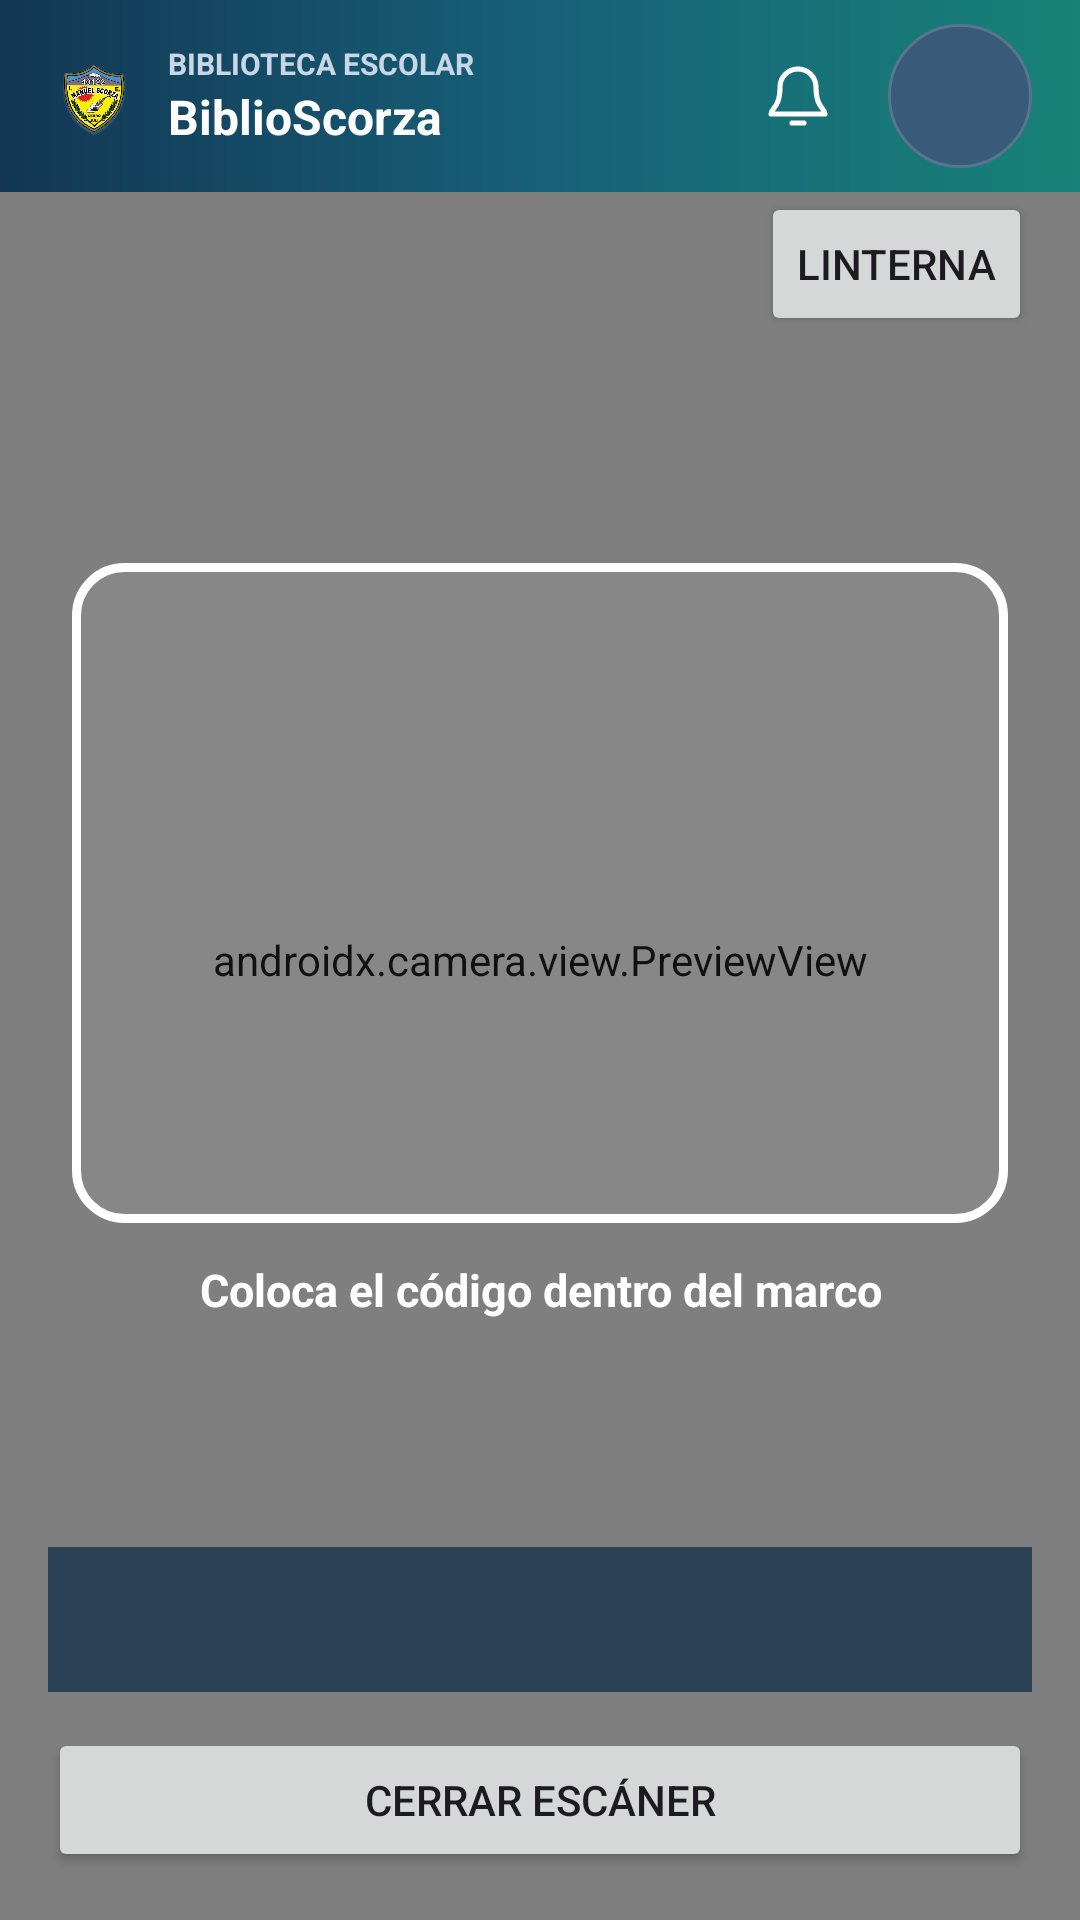

Icons on this 1080px×1920px Android screen, each with its box as (x1, y1, x2, y2):
notifications: (768, 66, 828, 126)
